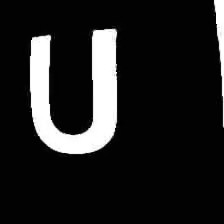LTR_U: (21, 17, 126, 159)
